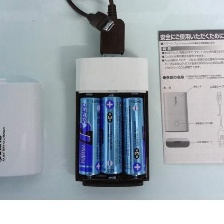battery: (118, 93, 149, 179), (75, 94, 102, 179), (99, 93, 126, 177)
